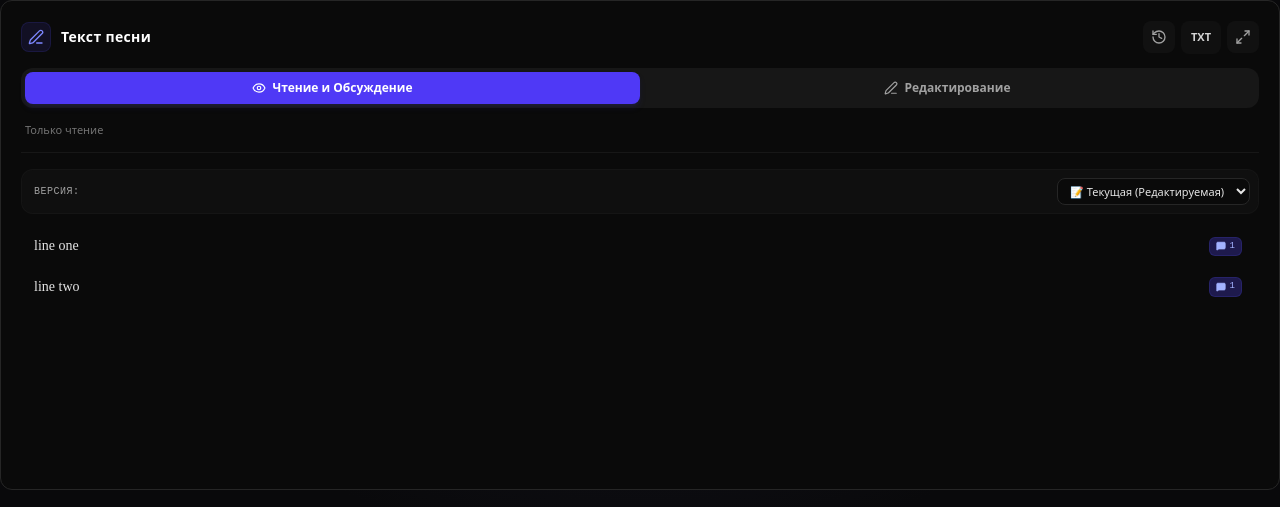
Test: LyricsEditor discussion flow › disables snapshot restore for read-only users
Select "📄 Куплет 2 (user-1)" in the dropdown: (1154, 192) x1=1057 y1=178 x2=1250 y2=205
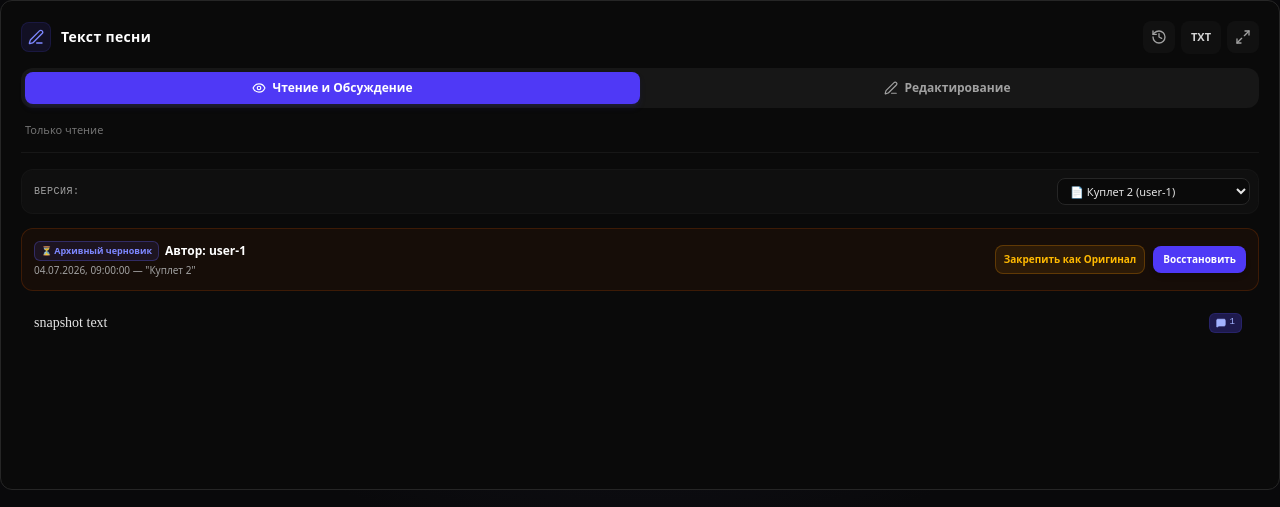
Now the button "Восстановить" is disabled, box x1=1153 y1=246 x2=1246 y2=273
